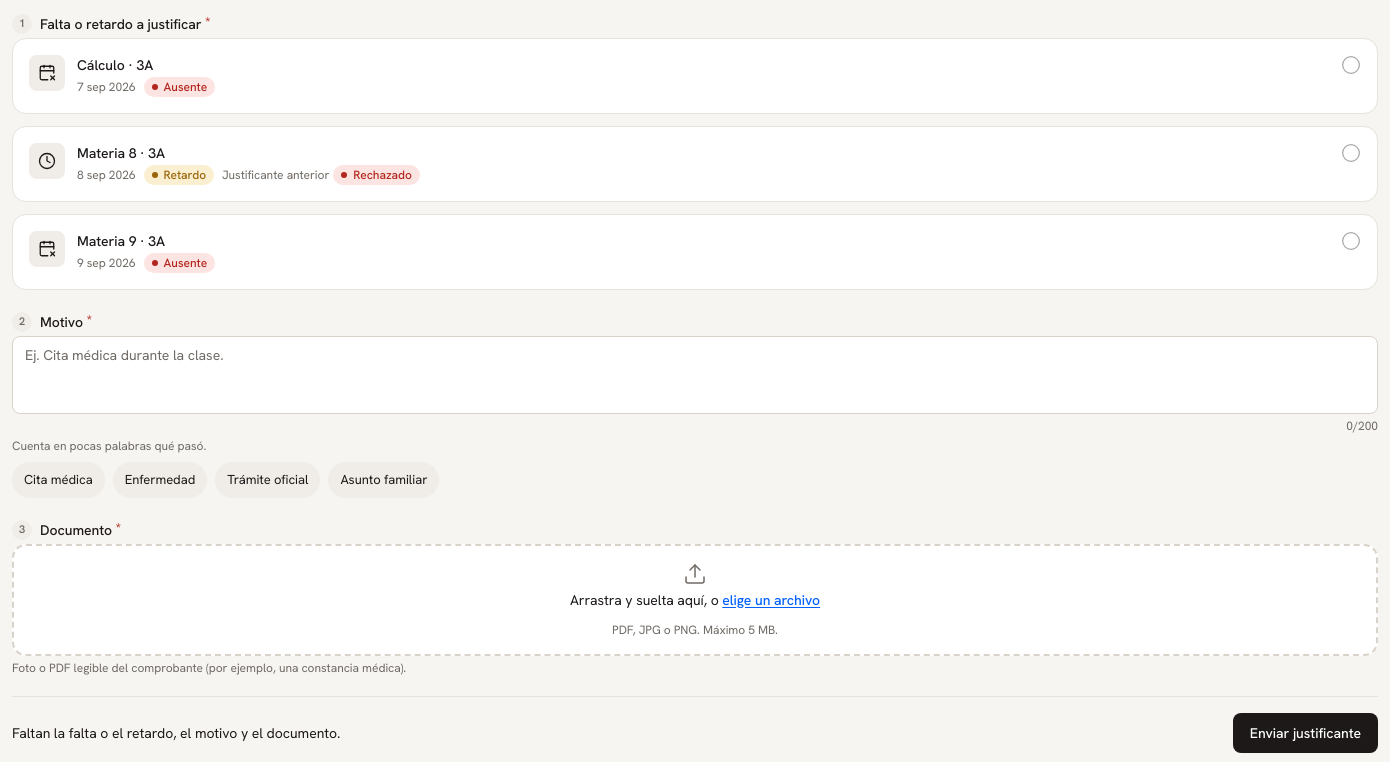
Test: FormularioJustificante › con varias faltas muestra todas como tarjetas con su estado (texto y color) y avisa del justificante rechazado
Check: the radio button labelled "Cálculo · 3A 7 sep 2026 Ausente" is not checked, box x1=29 y1=55 x2=1361 y2=97
Check: the radio button labelled "Materia 9 · 3A 9 sep 2026 Ausente" is not checked, box x1=29 y1=231 x2=1361 y2=273
What coordinates should you click on to do the following:
click the radio button labelled "Materia 8"
I would click on:
 (47, 161)
Its box is x1=29 y1=143 x2=1361 y2=185.
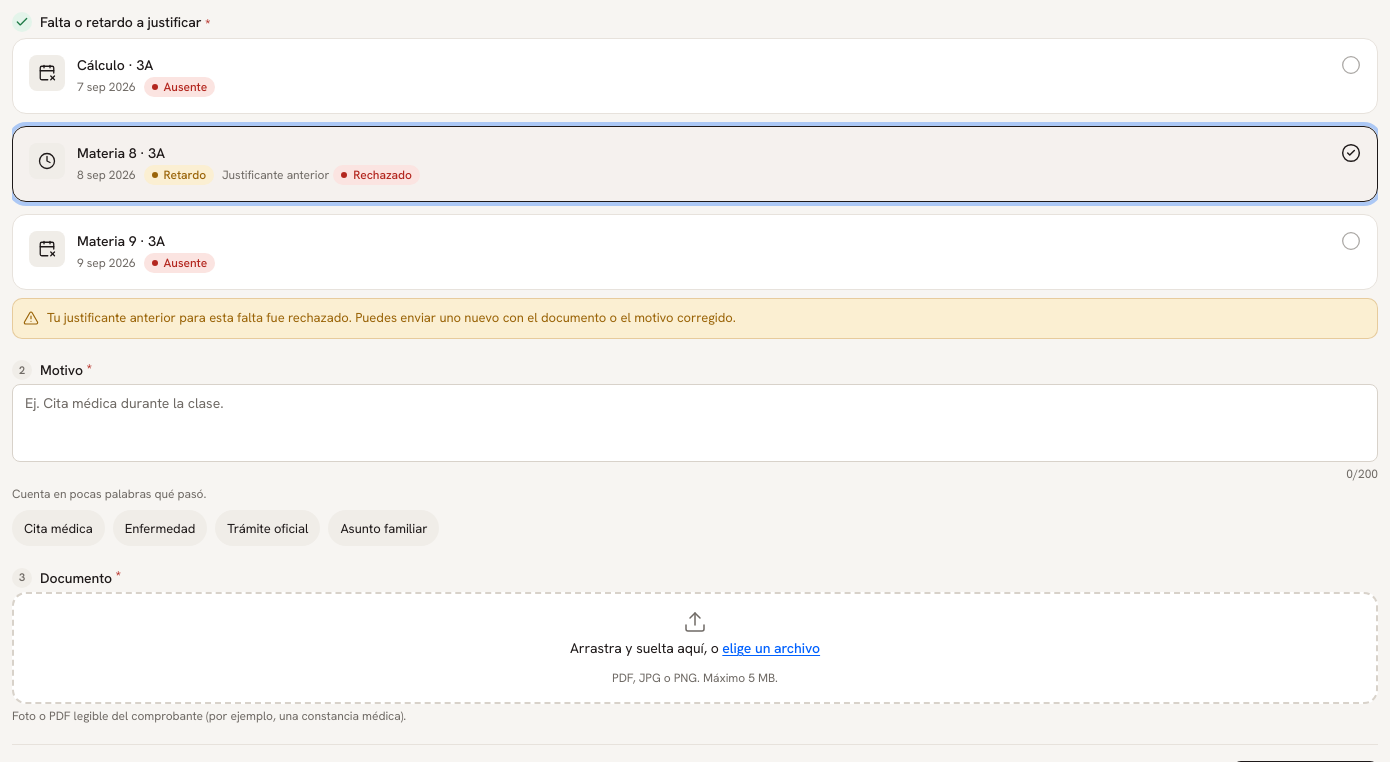
Check: the text "Tu justificante anterior para esta falta fue rechazado" is shown, box x1=47 y1=309 x2=736 y2=326
What coordinates should you click on to do the following:
click the radio button labelled "Cálculo · 3A 7 sep 2026 Ausente"
I would click on:
 (47, 73)
Its box is x1=29 y1=55 x2=1361 y2=97.
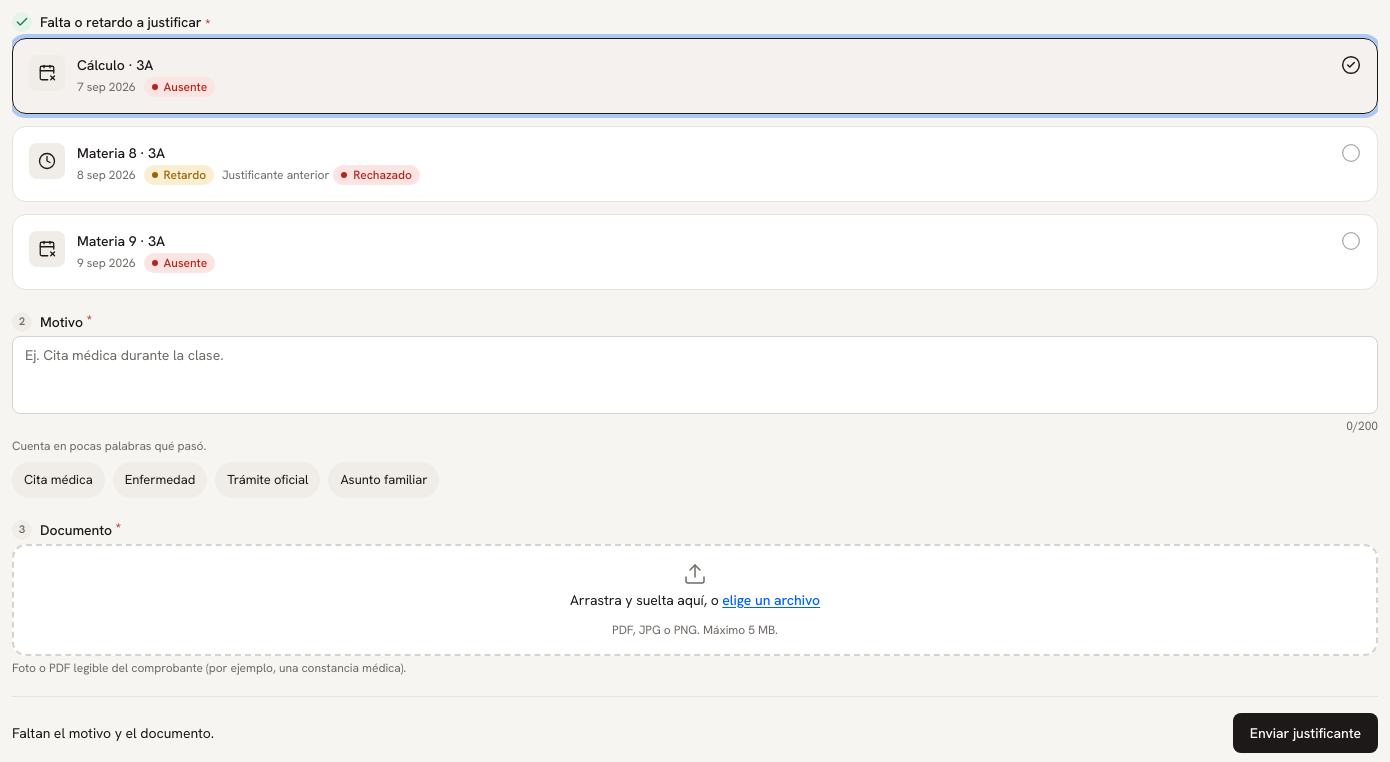
Check: the text "Tu justificante anterior para esta falta fue rechazado" is gone
